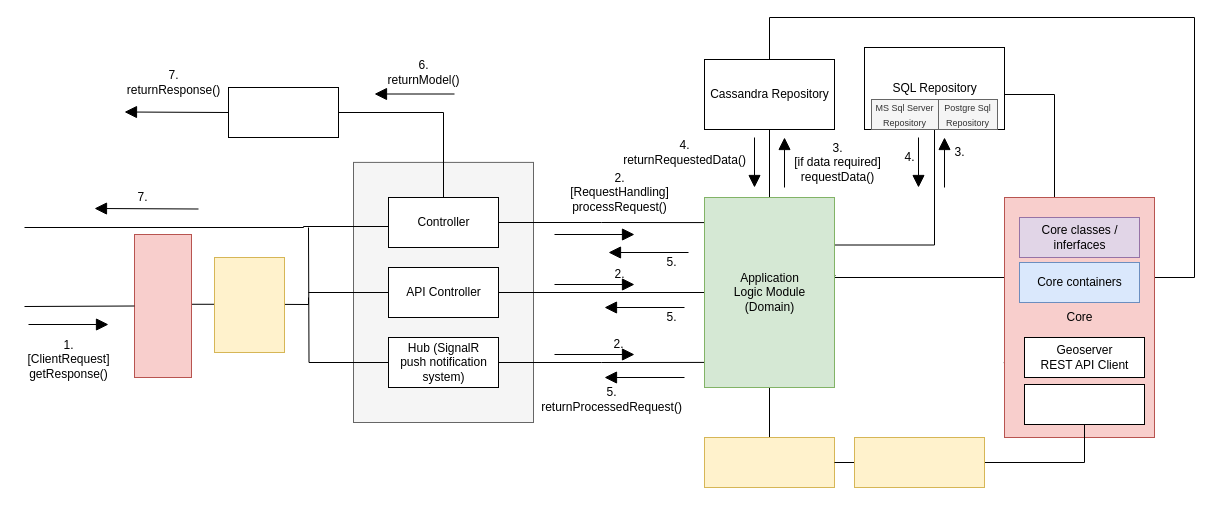
Image size: 1213x505. Some labels were removed from this diagram. Here are the shapes that lost their labels. From the top down, the centre of each, then its label:
the point at 283,112: View
the point at 163,306: Router
the point at 249,304: OWIN pipeline
the point at 1084,404: Data points Parsers
the point at 769,462: Model
the point at 919,462: Types
